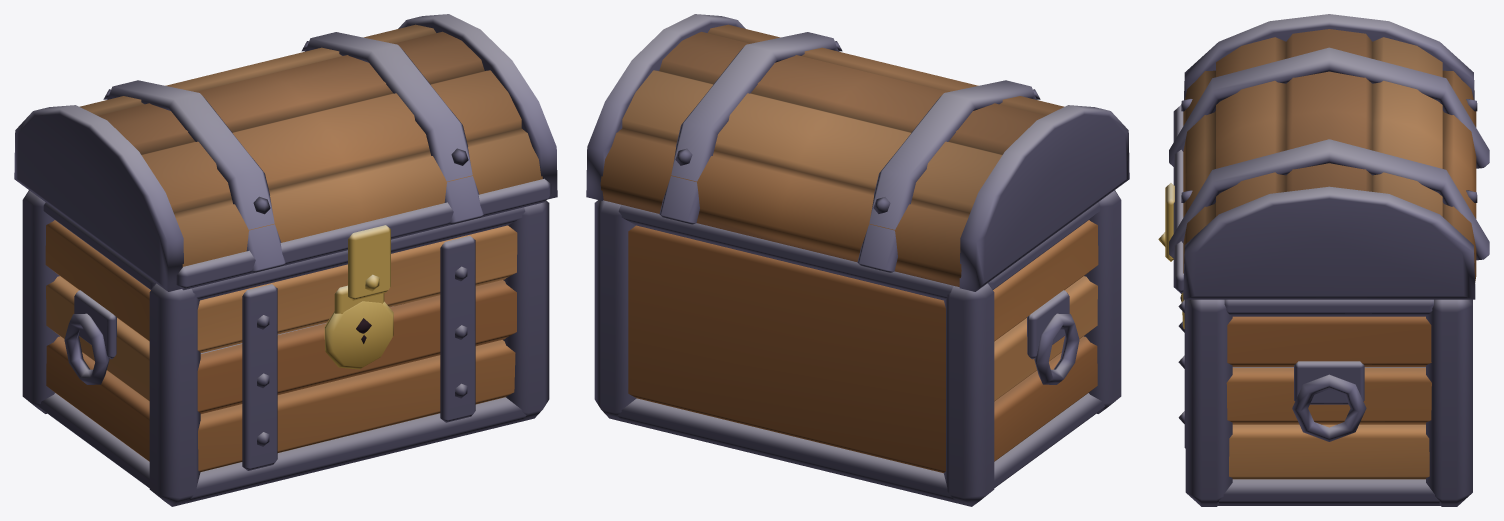
The model's file is chest-wood.glb.
The picture shows the model from 3 angles, left to right: view 1: azimuth 30°, elevation 25°; view 2: azimuth 150°, elevation 25°; view 3: azimuth 270°, elevation 25°; orthographic projection. The views are drawn at different scales.
Parts seen in each view (by area): view 1: body, lid; view 2: body, lid; view 3: lid, body.
Boxes of the visible parts, left/top/right/bottom form: body: left=22, top=190, right=549, bottom=506; lid: left=14, top=14, right=557, bottom=300; body: left=594, top=190, right=1121, bottom=506; lid: left=586, top=14, right=1129, bottom=291; lid: left=1158, top=14, right=1489, bottom=299; body: left=1178, top=292, right=1472, bottom=506.
Bounding box in the file's own units: 0.958 × 0.758 × 0.7033.
